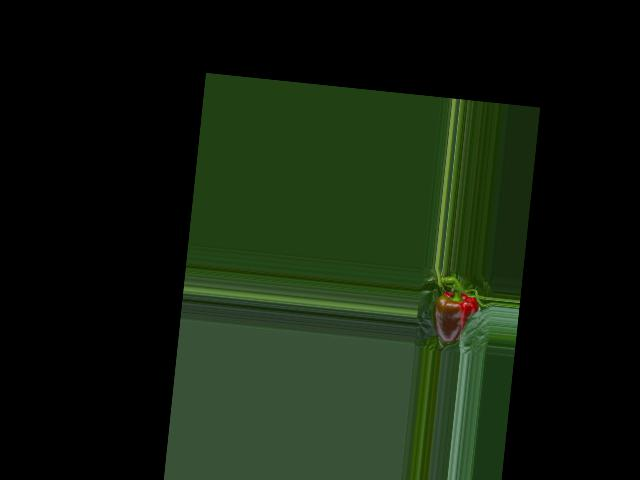bell_pepper: (425, 283, 482, 349)
